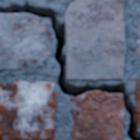brick: (66, 0, 125, 80), (0, 81, 56, 139), (0, 14, 51, 69), (71, 92, 123, 139), (135, 80, 139, 122), (136, 46, 139, 55)
crack: (0, 1, 139, 139)
